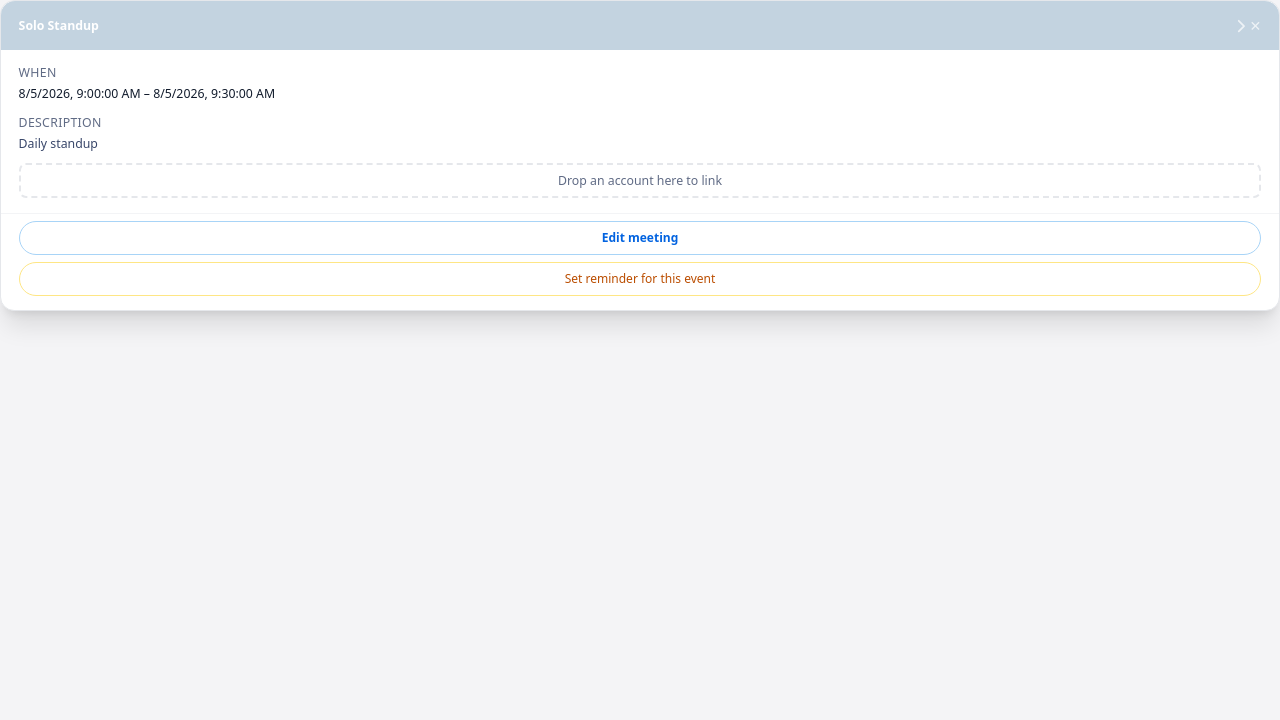
Scenario: EventDetailPanel — meeting edit mode › Save is disabled when title is empty
This screenshot has width=1280, height=720.
Step 1. Click the button "Edit meeting" → (640, 238), box [19, 220, 1261, 255]
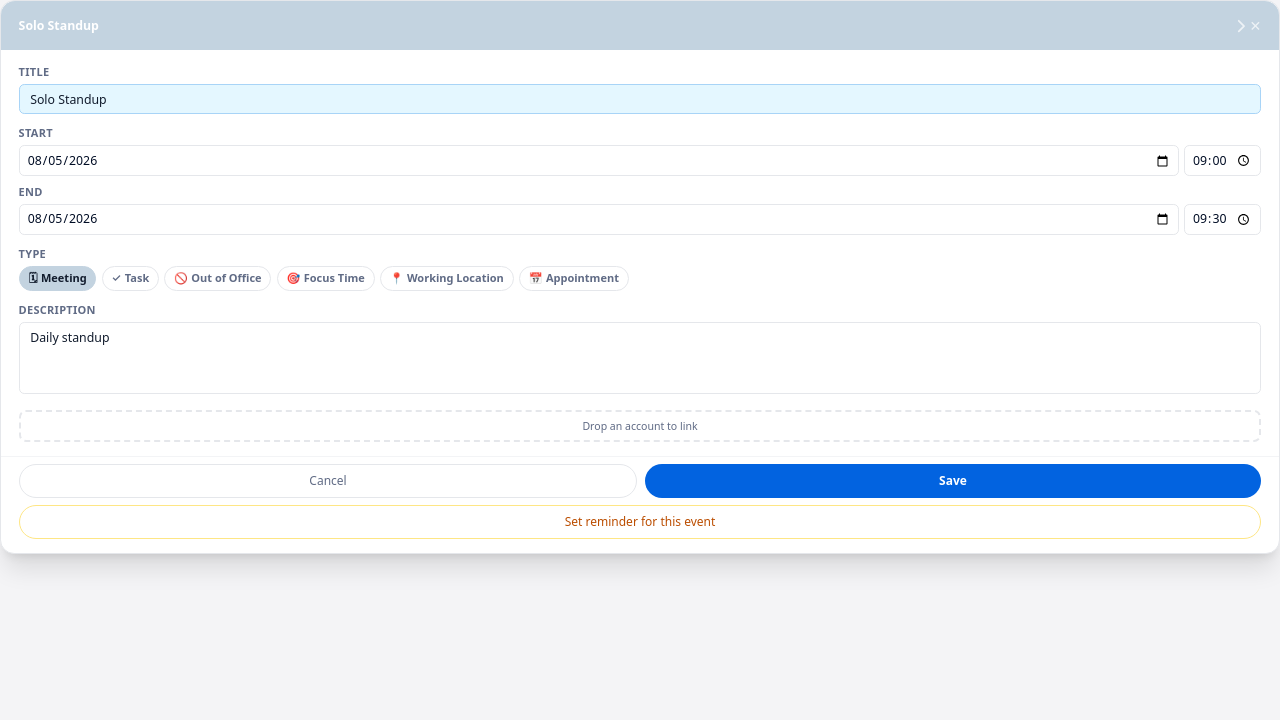
Step 2. Clear the field showing "Solo Standup" → (640, 99), box [19, 84, 1261, 114]
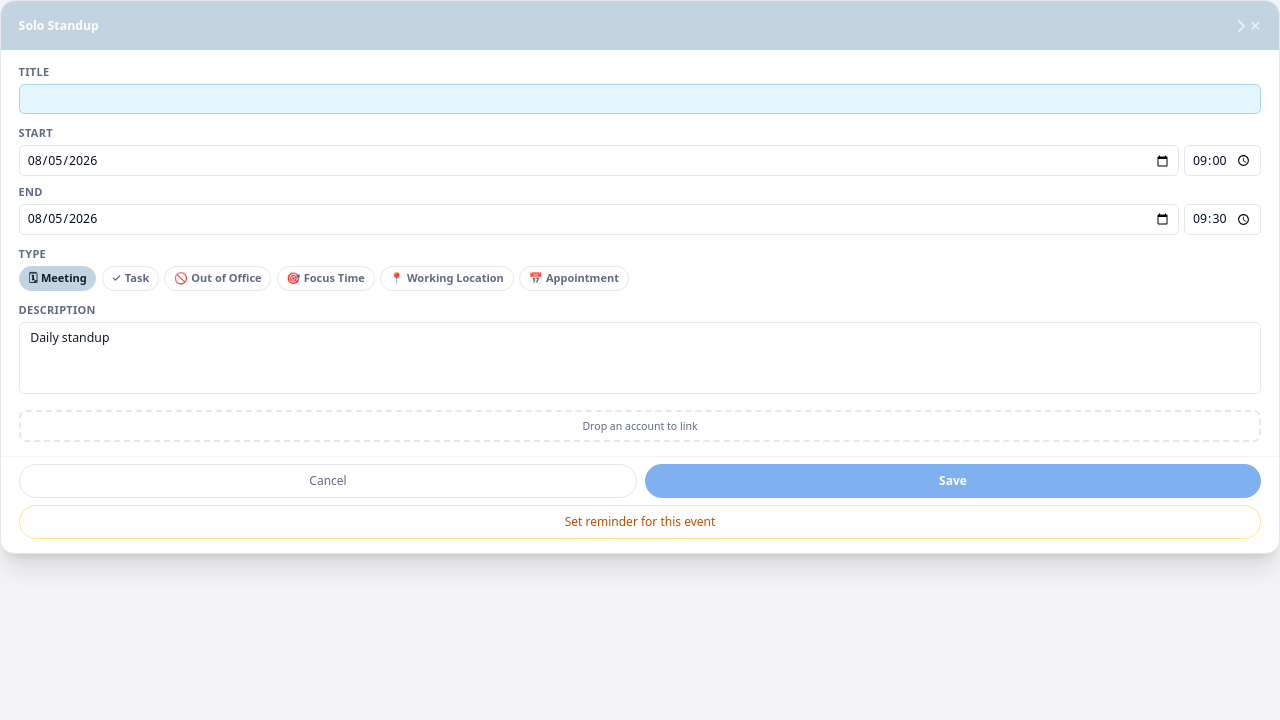
Expected: the button "Save" is disabled, [644, 464, 1261, 498]
